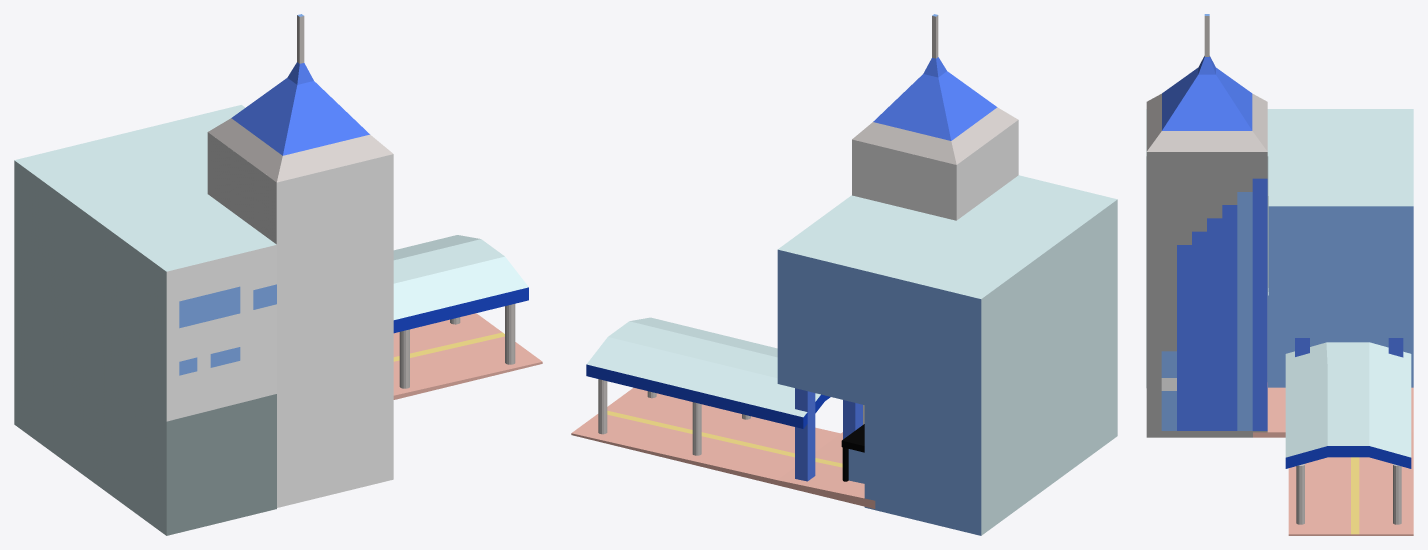
The model's file is honkan_genkan.glb.
3 renders of one model, left to right at view 1: azimuth 30°, elevation 25°; view 2: azimuth 150°, elevation 25°; view 3: azimuth 270°, elevation 25°, orthographic. The views are drawn at different scales.
Visible parts, largest first — view 1: 本校者・紺の部分, 本校者・三角形校舎, 本校者・三角形屋根, 本校者・昇降口屋根, 本校者・昇降口スロープ, 本校者・昇降口支柱_1; view 2: 本校者・紺の部分, 本校者・昇降口スロープ, 本校者・昇降口屋根, 本校者・三角形校舎, 本校者・三角形屋根, 本校者・昇降口支柱_2, 本校者・昇降口支柱_1, 昇降口・黒いやつ; view 3: 本校者・紺の部分, 本校者・三角形校舎, 本校者・昇降口屋根, 本校者・昇降口スロープ, 本校者・三角形屋根, 本校者・昇降口支柱_1, 本校者・昇降口支柱_2.
Part boxes in pixels (x1,y1,x2,y2): 本校者・紺の部分: (14,105,276,535); 本校者・三角形校舎: (207,132,393,507); 本校者・三角形屋根: (208,14,392,182); 本校者・昇降口屋根: (393,235,528,333); 本校者・昇降口スロープ: (393,313,542,399); 本校者・昇降口支柱_1: (399,304,515,388); 本校者・紺の部分: (777,175,1117,535); 本校者・昇降口スロープ: (571,387,875,508); 本校者・昇降口屋根: (586,317,830,428); 本校者・三角形校舎: (852,120,1018,424); 本校者・三角形屋根: (852,14,1017,164); 本校者・昇降口支柱_2: (795,388,862,481); 本校者・昇降口支柱_1: (598,379,750,455); 昇降口・黒いやつ: (841,424,864,481); 本校者・紺の部分: (1146,109,1413,387); 本校者・三角形校舎: (1146,152,1267,437); 本校者・昇降口屋根: (1285,342,1411,468); 本校者・昇降口スロープ: (1253,382,1413,535); 本校者・三角形屋根: (1146,14,1267,151); 本校者・昇降口支柱_1: (1296,464,1401,524); 本校者・昇降口支柱_2: (1295,338,1403,357).
Bounding box in the file's own units: 8.65 × 8.2 × 4.99.
Materials: 2 (1 with a texture image).
